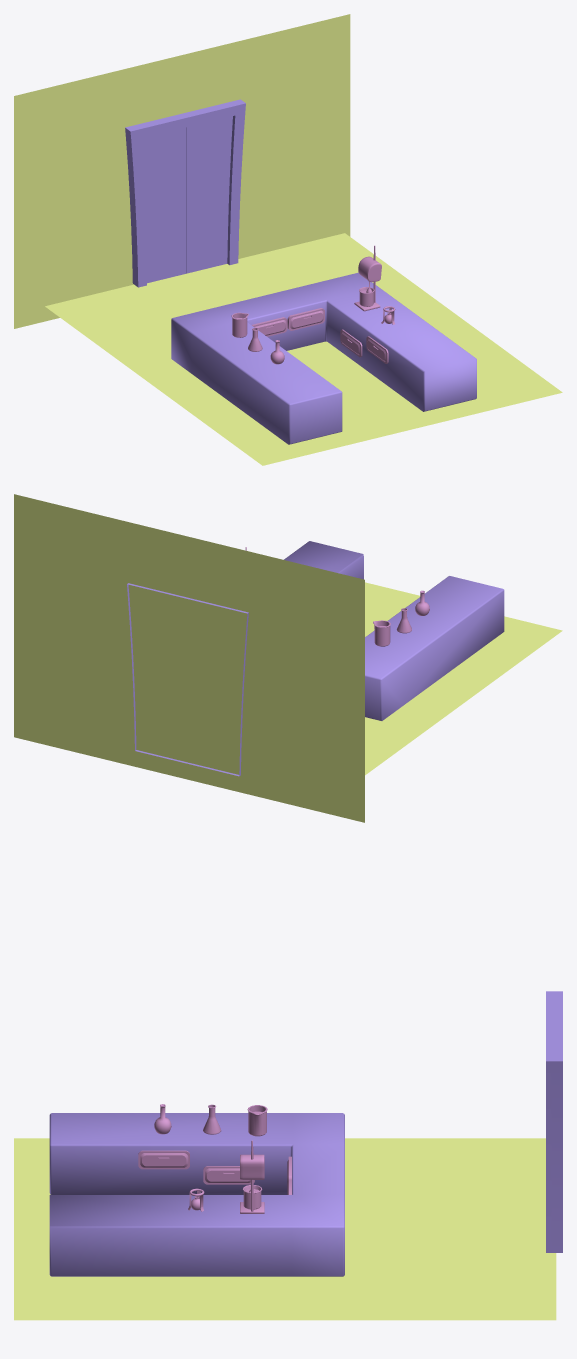
File: conjunto.FBX
3 views of the same model, one above another, from view 1: azimuth 30°, elevation 25°; view 2: azimuth 150°, elevation 25°; view 3: azimuth 270°, elevation 25° (orthographic). The views are drawn at different scales.
Parts seen in each view (by area): view 1: paret_low, suelo_low, mesa_low, puerta1_low, puerta3_low, puerta2_low, cajon_low; view 2: paret_low, mesa_low, suelo_low, puerta2_low, proveta1_low; view 3: suelo_low, mesa_low, puerta2_low, Box010, Box009, cuadrado_low.
Part boxes in pixels (bbox=[...]): paret_low: bbox=[14, 14, 350, 328]; suelo_low: bbox=[45, 233, 562, 465]; mesa_low: bbox=[171, 272, 476, 444]; puerta1_low: bbox=[186, 116, 232, 273]; puerta3_low: bbox=[141, 127, 185, 283]; puerta2_low: bbox=[125, 99, 245, 287]; cajon_low: bbox=[287, 308, 324, 330]; paret_low: bbox=[14, 494, 364, 822]; mesa_low: bbox=[284, 541, 504, 720]; suelo_low: bbox=[365, 582, 562, 775]; puerta2_low: bbox=[127, 583, 248, 776]; proveta1_low: bbox=[373, 620, 390, 646]; suelo_low: bbox=[14, 1138, 556, 1320]; mesa_low: bbox=[49, 1113, 344, 1276]; puerta2_low: bbox=[546, 991, 562, 1252]; Box010: bbox=[138, 1150, 189, 1169]; Box009: bbox=[203, 1166, 254, 1184]; cuadrado_low: bbox=[240, 1154, 264, 1179].
Size of the model in its own units: 163 by 108 by 185.
